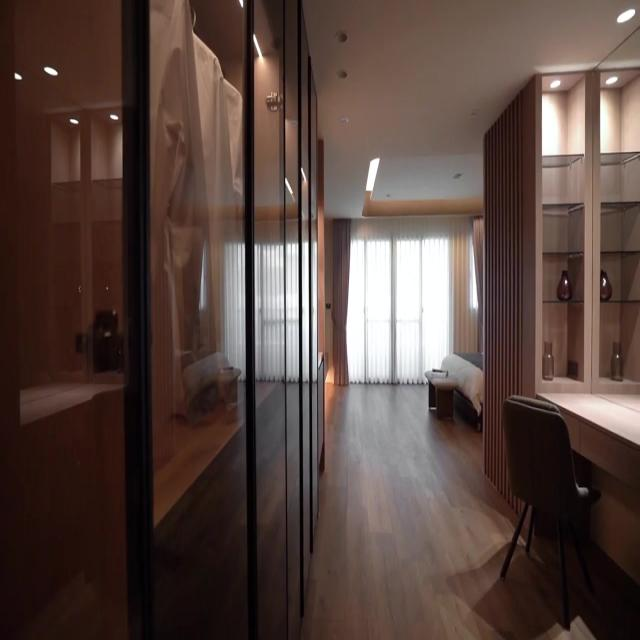door: (132, 0, 312, 639)
obstacle: (500, 394, 601, 630)
